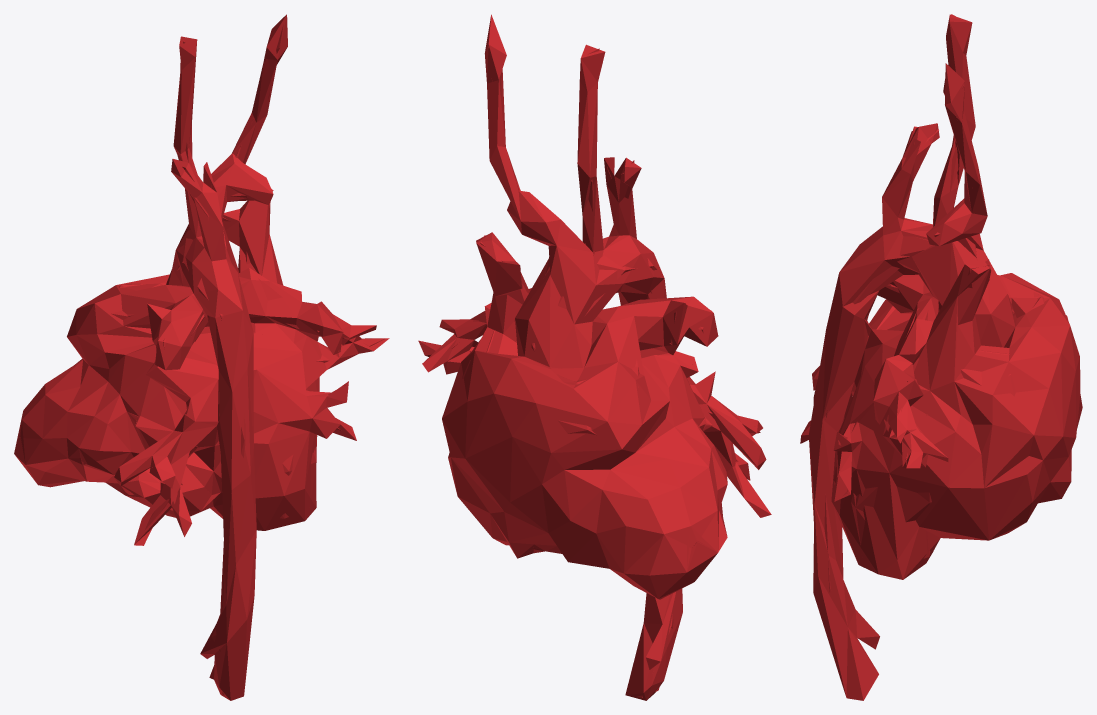
Rendered from lowPoly2018001.obj.
The picture shows the model from 3 angles, left to right: view 1: azimuth 30°, elevation 25°; view 2: azimuth 150°, elevation 25°; view 3: azimuth 270°, elevation 25°; orthographic projection. The views are drawn at different scales.
Visible parts, largest first — view 1: 2018001Myocardium; view 2: 2018001Myocardium; view 3: 2018001Myocardium.
Boxes of the visible parts, bbox=[...] form: 2018001Myocardium: bbox=[14, 14, 389, 700]; 2018001Myocardium: bbox=[418, 14, 771, 700]; 2018001Myocardium: bbox=[800, 14, 1082, 700].
Size of the model in its own units: 199 by 375 by 141.
